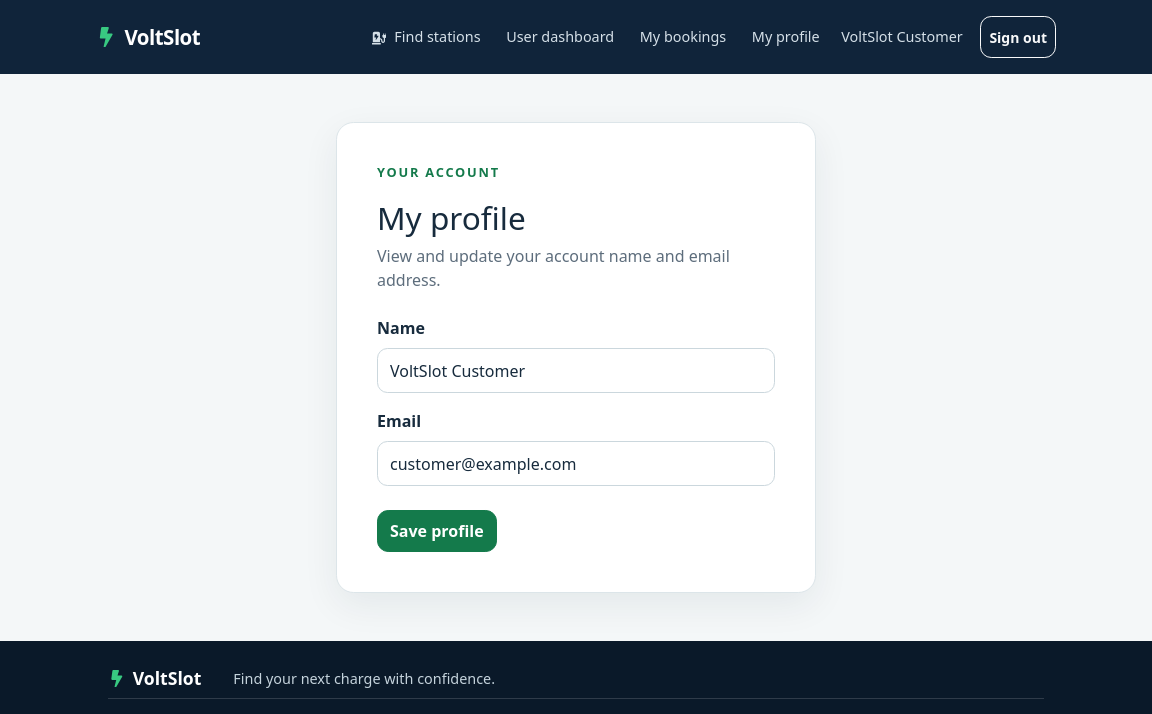
Test: VoltSlot station frontend › updates the authenticated user profile and refreshes account navigation
Replace the text in the field labelled "Name" with "Updated Customer" at [576, 371], box [377,348,775,393]
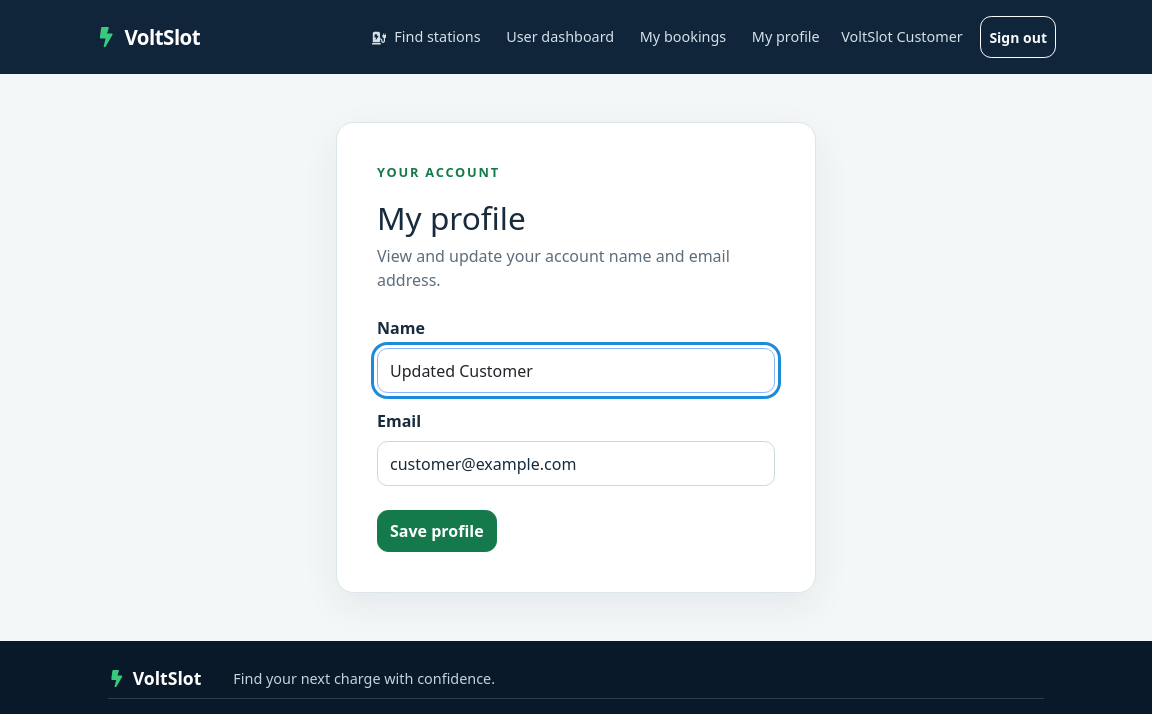
Replace the text in the field labelled "Email" with "updated@example.com" at [576, 464], box [377,441,775,486]
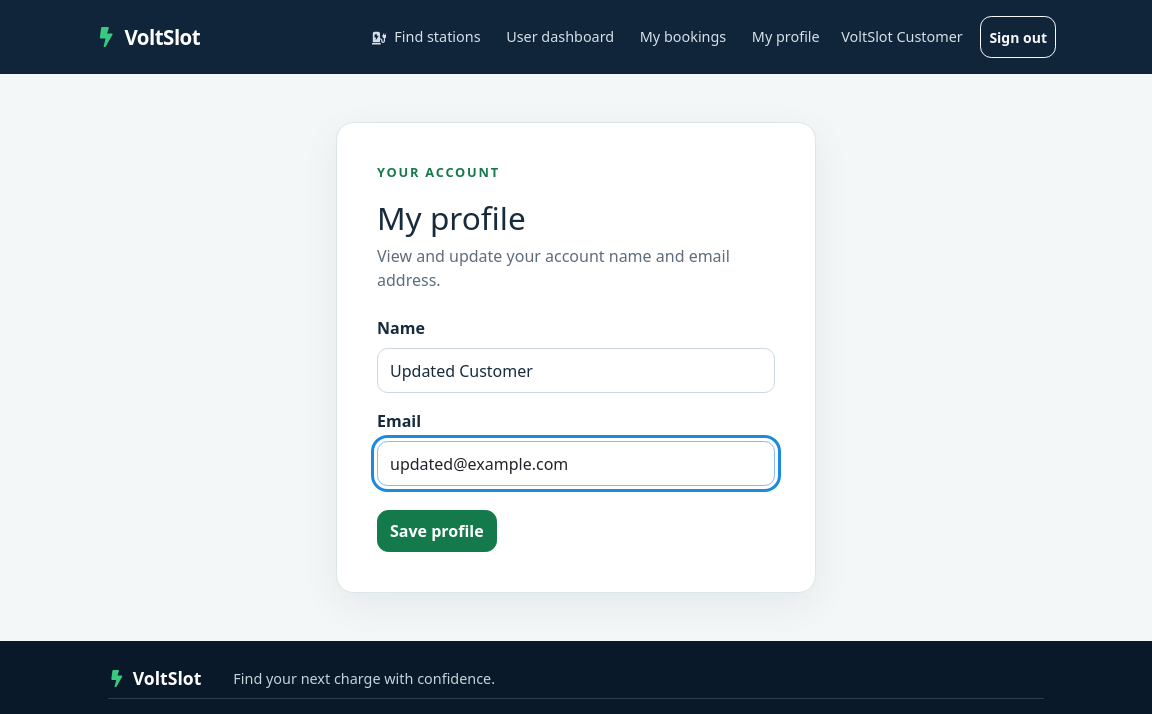
Click the button "Save profile".
click(437, 531)  # box [377,510,497,552]
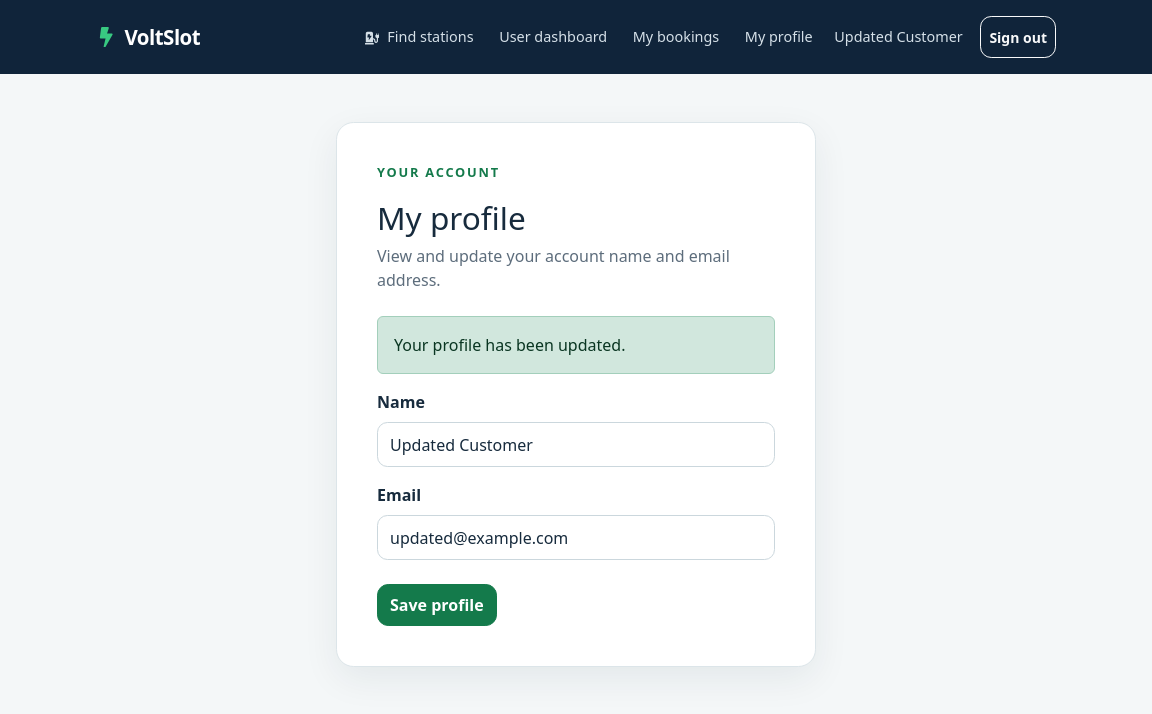
Check: the text "Your profile has been updated." is shown, box [377,316,775,374]
Check: the text "Updated Customer" is shown, box [834,26,963,48]
